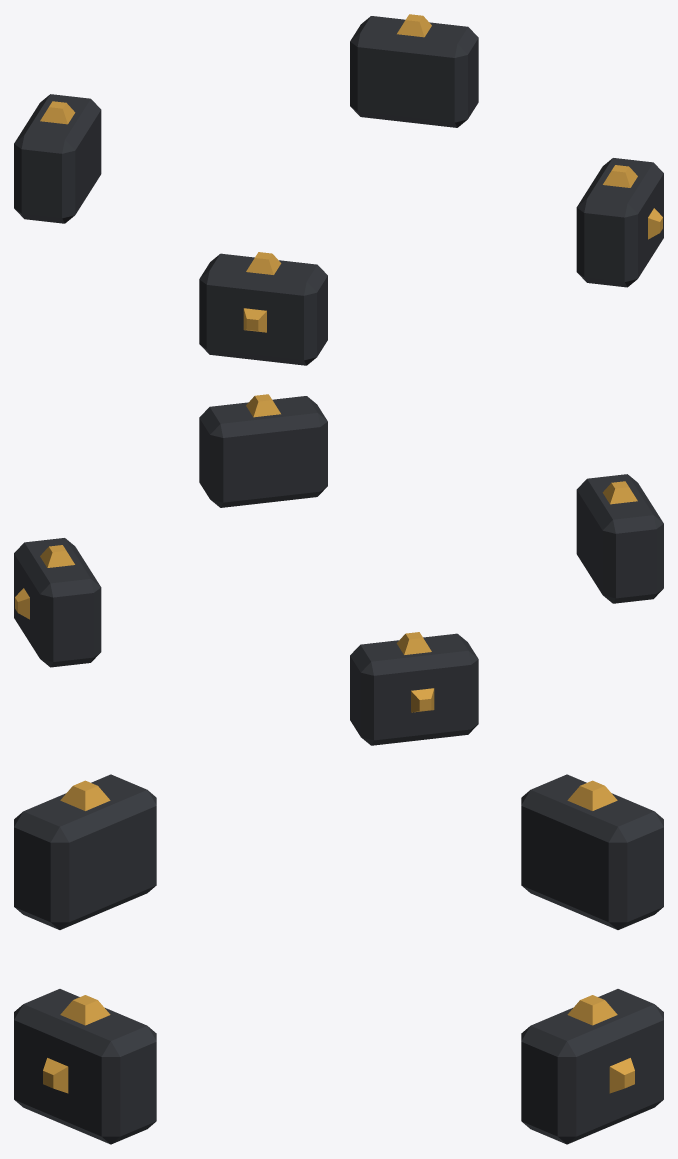
The model's file is MenderKit2.obj.
The picture shows the model from 3 angles, top to bottom: view 1: azimuth 30°, elevation 25°; view 2: azimuth 150°, elevation 25°; view 3: azimuth 270°, elevation 25°; orthographic projection. The views are drawn at different scales.
Visible parts, largest first — view 1: MenderKit2; view 2: MenderKit2; view 3: MenderKit2.
Part boxes in pixels (x1,y1,x2,y2): MenderKit2: (14, 14, 663, 365); MenderKit2: (14, 394, 663, 745); MenderKit2: (14, 774, 663, 1144).
Bounding box in the file's own units: 1.08 × 0.217 × 1.08.
